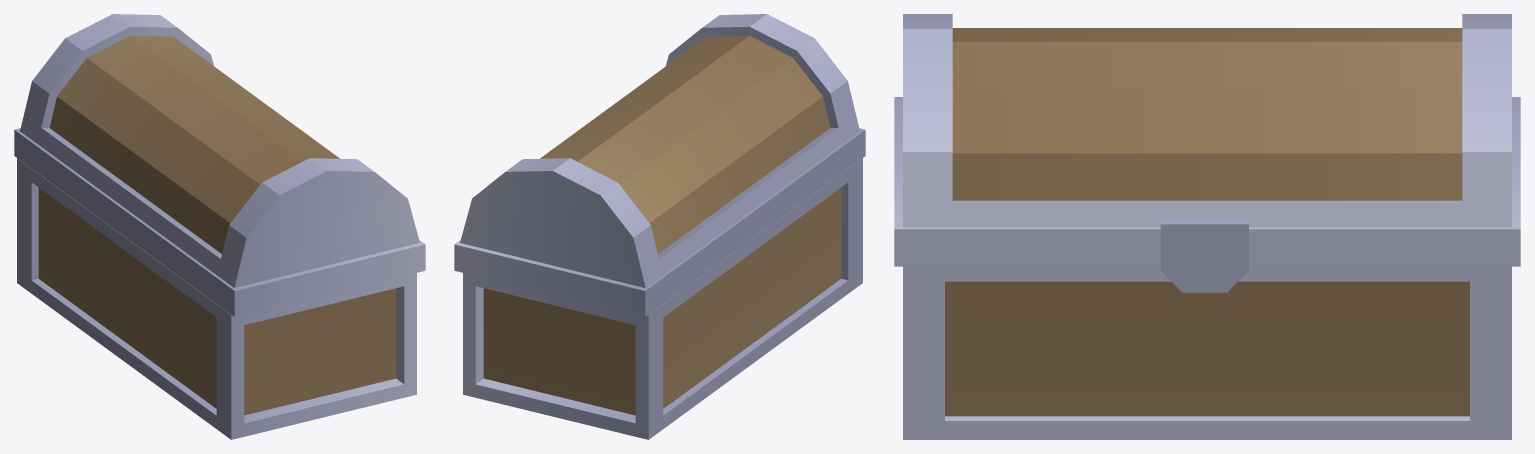
File: chest.fbx
3 renders of one model, left to right at view 1: azimuth 30°, elevation 25°; view 2: azimuth 150°, elevation 25°; view 3: azimuth 270°, elevation 25°, orthographic. The views are drawn at different scales.
Parts seen in each view (by area): view 1: Plane, Plane.001; view 2: Plane, Plane.001; view 3: Plane, Plane.001, Plane.002.
Part boxes in pixels (<box>): Plane: <box>14,14,425,316</box>; Plane.001: <box>17,158,416,439</box>; Plane: <box>454,14,865,316</box>; Plane.001: <box>463,158,862,439</box>; Plane: <box>894,14,1520,266</box>; Plane.001: <box>903,266,1511,439</box>; Plane.002: <box>1160,219,1248,292</box>.
Bounding box in the file's own units: 211 × 253 × 411.
